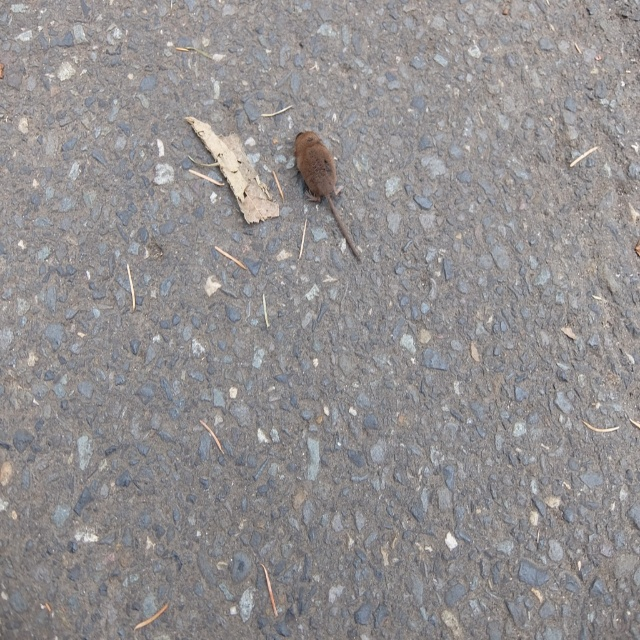Mouse: (276, 130, 357, 251)
